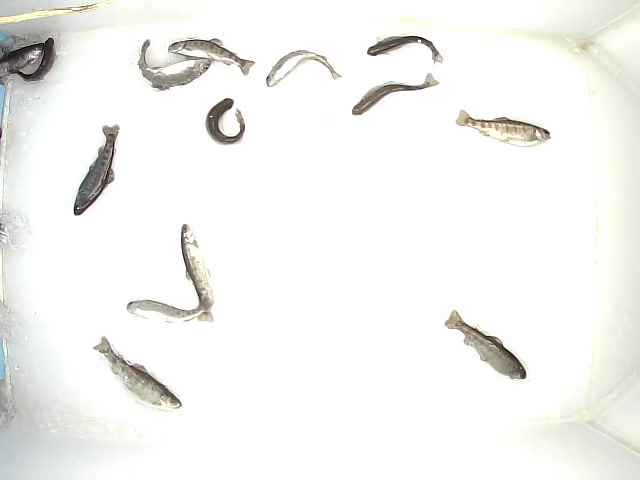fish: (92, 335, 183, 411), (443, 309, 528, 381), (73, 123, 120, 218), (136, 38, 212, 91), (352, 72, 441, 116), (454, 109, 551, 148), (167, 37, 256, 78), (180, 223, 213, 323), (265, 50, 342, 89), (366, 35, 444, 66), (126, 300, 213, 324), (204, 97, 246, 146)
